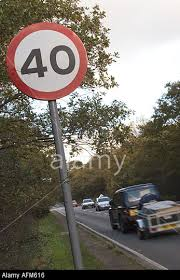Speed_limit_40km: (6, 23, 88, 99)
